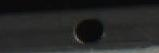holes: (73, 18, 106, 45)
